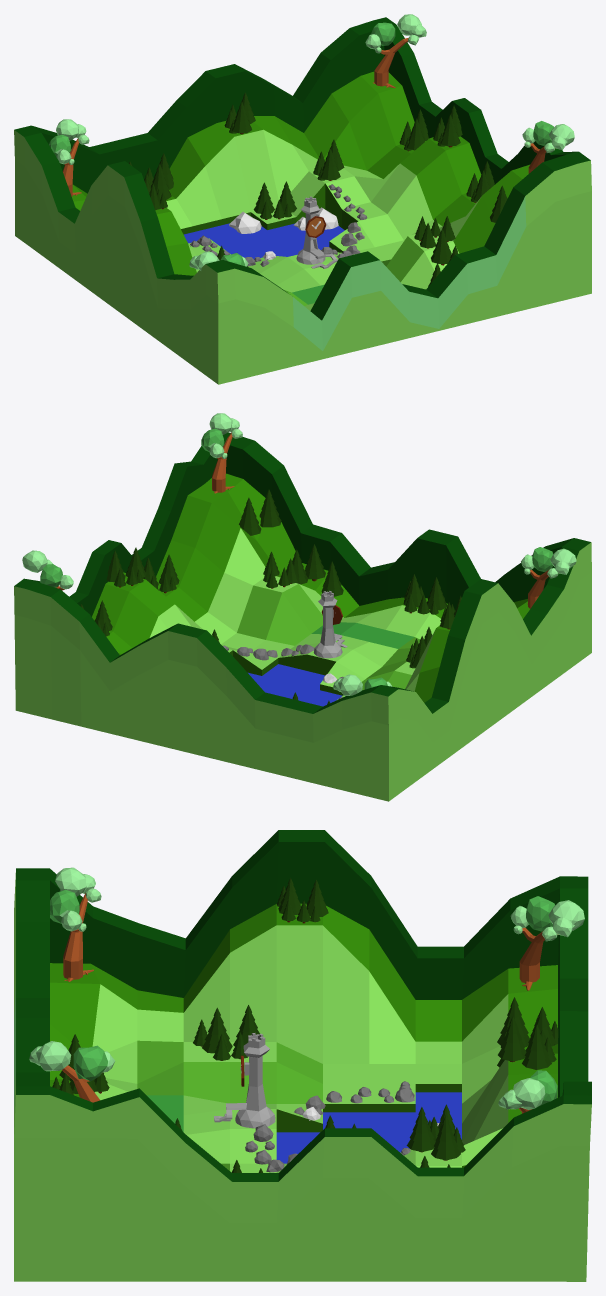
Rendered from TERRENO FASE 1.fbx.
3 views of the same model, one above another, from view 1: azimuth 30°, elevation 25°; view 2: azimuth 150°, elevation 25°; view 3: azimuth 270°, elevation 25° (orthographic). The views are drawn at different scales.
Visible parts, largest first — view 1: TERRENO, LAGO, TORRE, ARBOL 4 COPO VERDE CLARO, ARBOL 1 COPO VERDE CLARO, ARBOL 2 COPO VERDE CLARO, ARBOL 4 TRONCO; view 2: TERRENO, LAGO, TORRE, ARBOL 3 COPO VERDE CLARO, ARBOL 1 COPO VERDE CLARO, ARBOL 4 COPO VERDE CLARO, ARBOL 1 TRONCO, PINO.014; view 3: TERRENO, LAGO, TORRE, ARBOL 2 COPO VERDE CLARO, ARBOL 3 COPO VERDE CLARO, ARBOL 3 TRONCO, ARBOL 4 COPO VERDE CLARO, ARBOL 1 COPO VERDE CLARO, ARBOL 2 TRONCO, ARBOL 1 COPO VERDE OSCURO, ARBOL 2 COPO VERDE OSCURO, PINO.032 (+6 smaller).
Boxes of the visible parts, x1,y1,x2,y2 form: TERRENO: [14, 17, 591, 384]; LAGO: [184, 223, 344, 259]; TORRE: [296, 196, 337, 268]; ARBOL 4 COPO VERDE CLARO: [365, 14, 426, 53]; ARBOL 1 COPO VERDE CLARO: [522, 124, 574, 152]; ARBOL 2 COPO VERDE CLARO: [55, 119, 89, 164]; ARBOL 4 TRONCO: [373, 38, 408, 88]; TERRENO: [14, 432, 591, 801]; LAGO: [248, 664, 342, 706]; TORRE: [313, 591, 347, 658]; ARBOL 3 COPO VERDE CLARO: [521, 548, 576, 578]; ARBOL 1 COPO VERDE CLARO: [208, 413, 242, 458]; ARBOL 4 COPO VERDE CLARO: [22, 550, 73, 589]; ARBOL 1 TRONCO: [212, 432, 234, 493]; PINO.014: [259, 489, 281, 527]; TERRENO: [14, 830, 591, 1281]; LAGO: [276, 1092, 461, 1163]; TORRE: [214, 1033, 275, 1128]; ARBOL 2 COPO VERDE CLARO: [510, 900, 584, 941]; ARBOL 3 COPO VERDE CLARO: [55, 867, 101, 931]; ARBOL 3 TRONCO: [63, 893, 93, 981]; ARBOL 4 COPO VERDE CLARO: [498, 1078, 545, 1109]; ARBOL 1 COPO VERDE CLARO: [29, 1041, 115, 1072]; ARBOL 2 TRONCO: [519, 927, 558, 990]; ARBOL 1 COPO VERDE OSCURO: [73, 1045, 107, 1081]; ARBOL 2 COPO VERDE OSCURO: [526, 896, 554, 931]; PINO.032: [431, 1115, 460, 1160].
Size of the model in its own units: 1240 by 495 by 1134.
